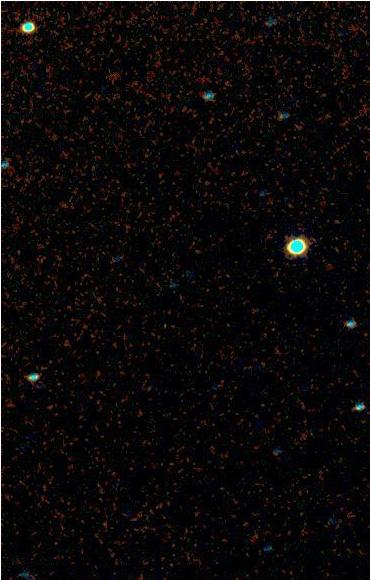star: (33, 393, 63, 423)
